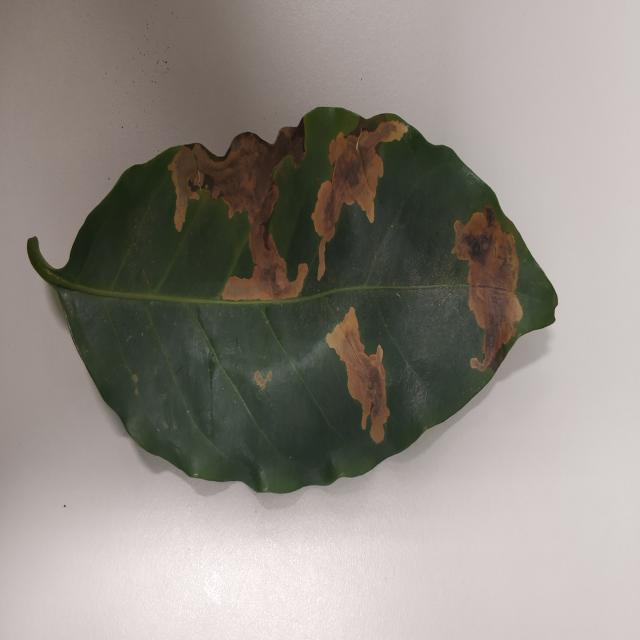Plaga-Minador: (25, 107, 558, 497)
